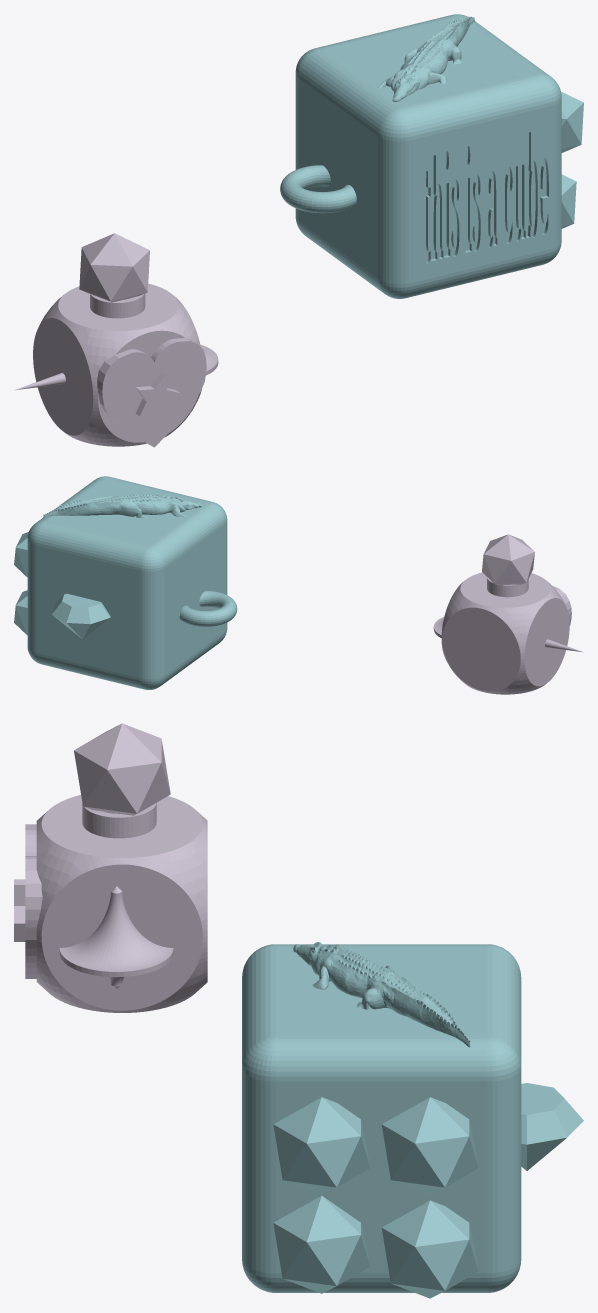
File: Powerful Amberis-Hillar.glb
3 views of the same model, one above another, from view 1: azimuth 30°, elevation 25°; view 2: azimuth 150°, elevation 25°; view 3: azimuth 270°, elevation 25° (orthographic). The views are drawn at different scales.
Parts seen in each view (by area): view 1: Mesh_Mesh_head_geo.001_lambert2SG.001; view 2: Mesh_Mesh_head_geo.001_lambert2SG.001; view 3: Mesh_Mesh_head_geo.001_lambert2SG.001.
Part boxes in pixels (x1,y1,x2,y2): Mesh_Mesh_head_geo.001_lambert2SG.001: (14, 14, 583, 447); Mesh_Mesh_head_geo.001_lambert2SG.001: (14, 476, 583, 694); Mesh_Mesh_head_geo.001_lambert2SG.001: (14, 723, 583, 1298).
Size of the model in its own units: 0.1734 by 0.054 by 0.1.
